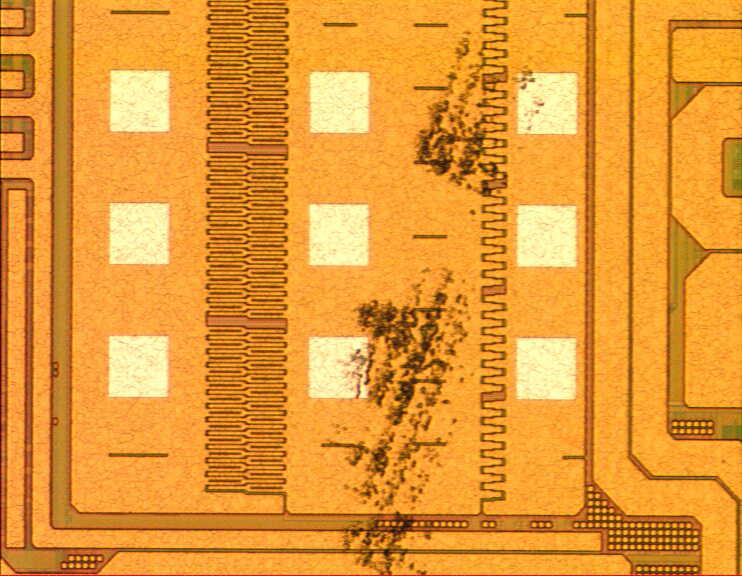SCRATCH: (323, 19, 553, 576)
